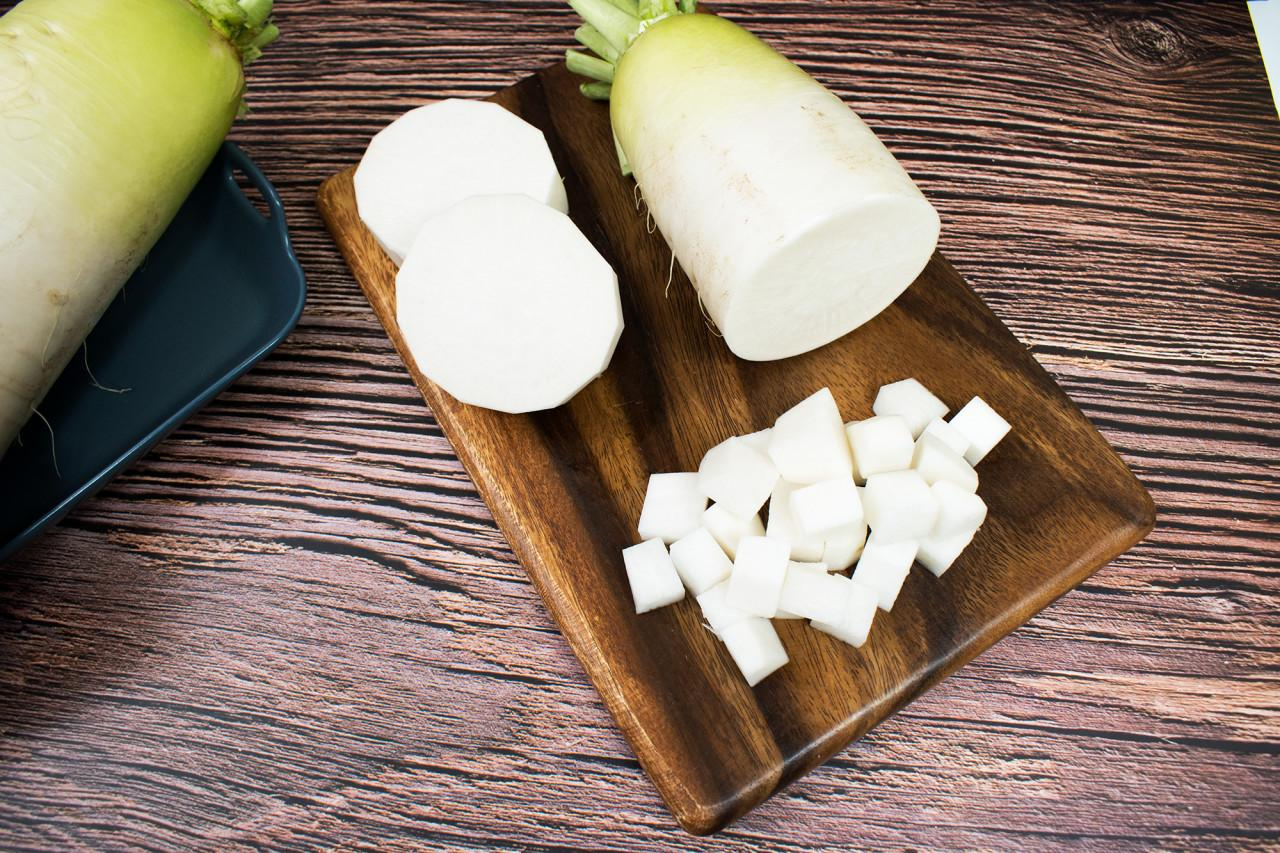radish: (800, 259, 1254, 553), (1041, 57, 1280, 440)
